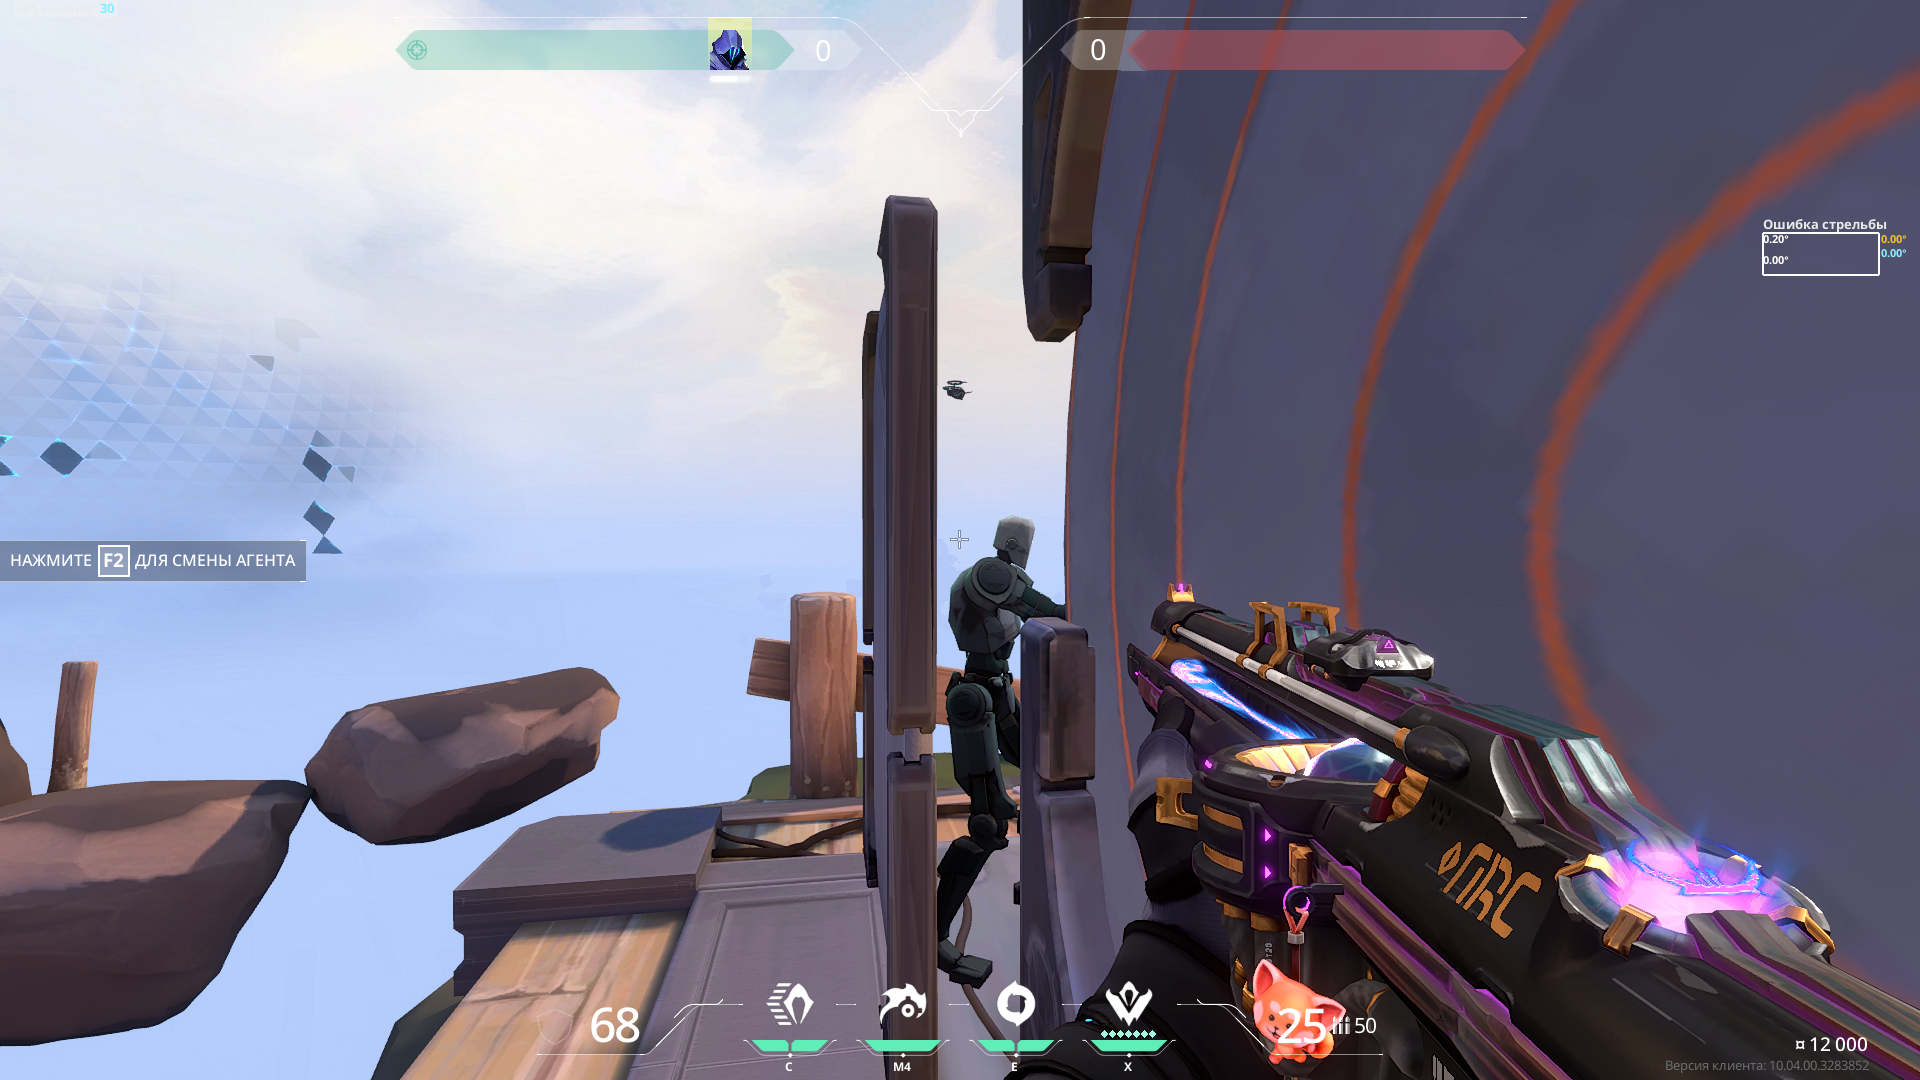head: (993, 515, 1035, 570)
